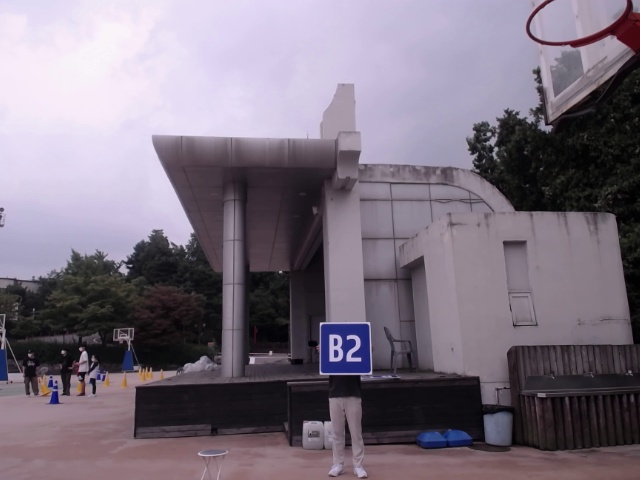delivery_b2: (320, 321, 374, 375)
